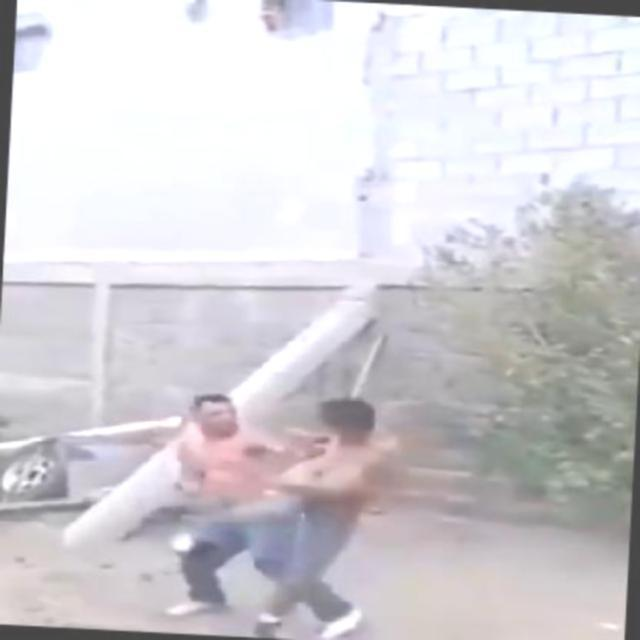fight: (164, 390, 410, 638)
